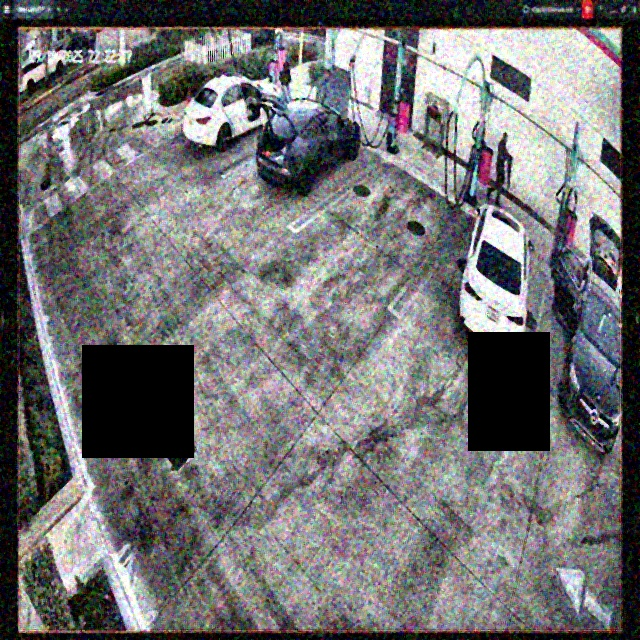Car: (257, 70, 362, 207), (460, 196, 529, 363), (180, 74, 281, 148)
